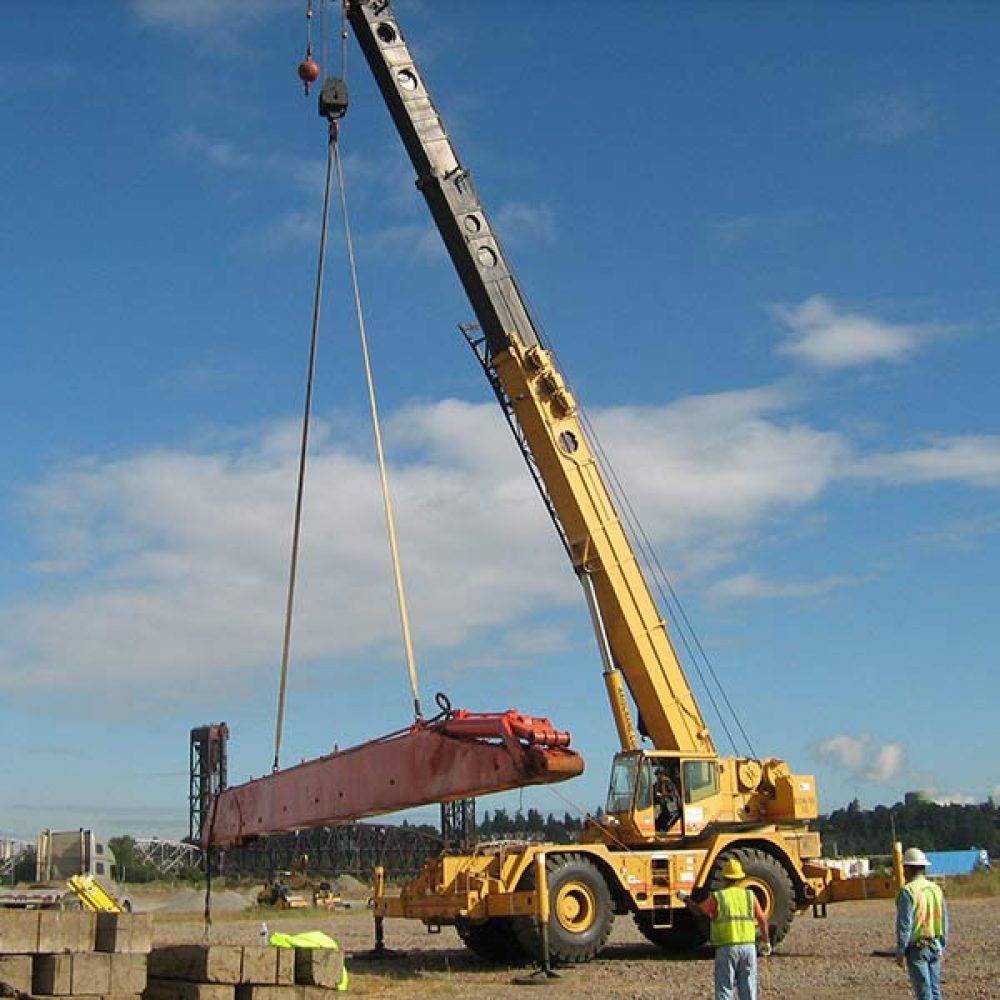crane: (288, 1, 856, 958)
